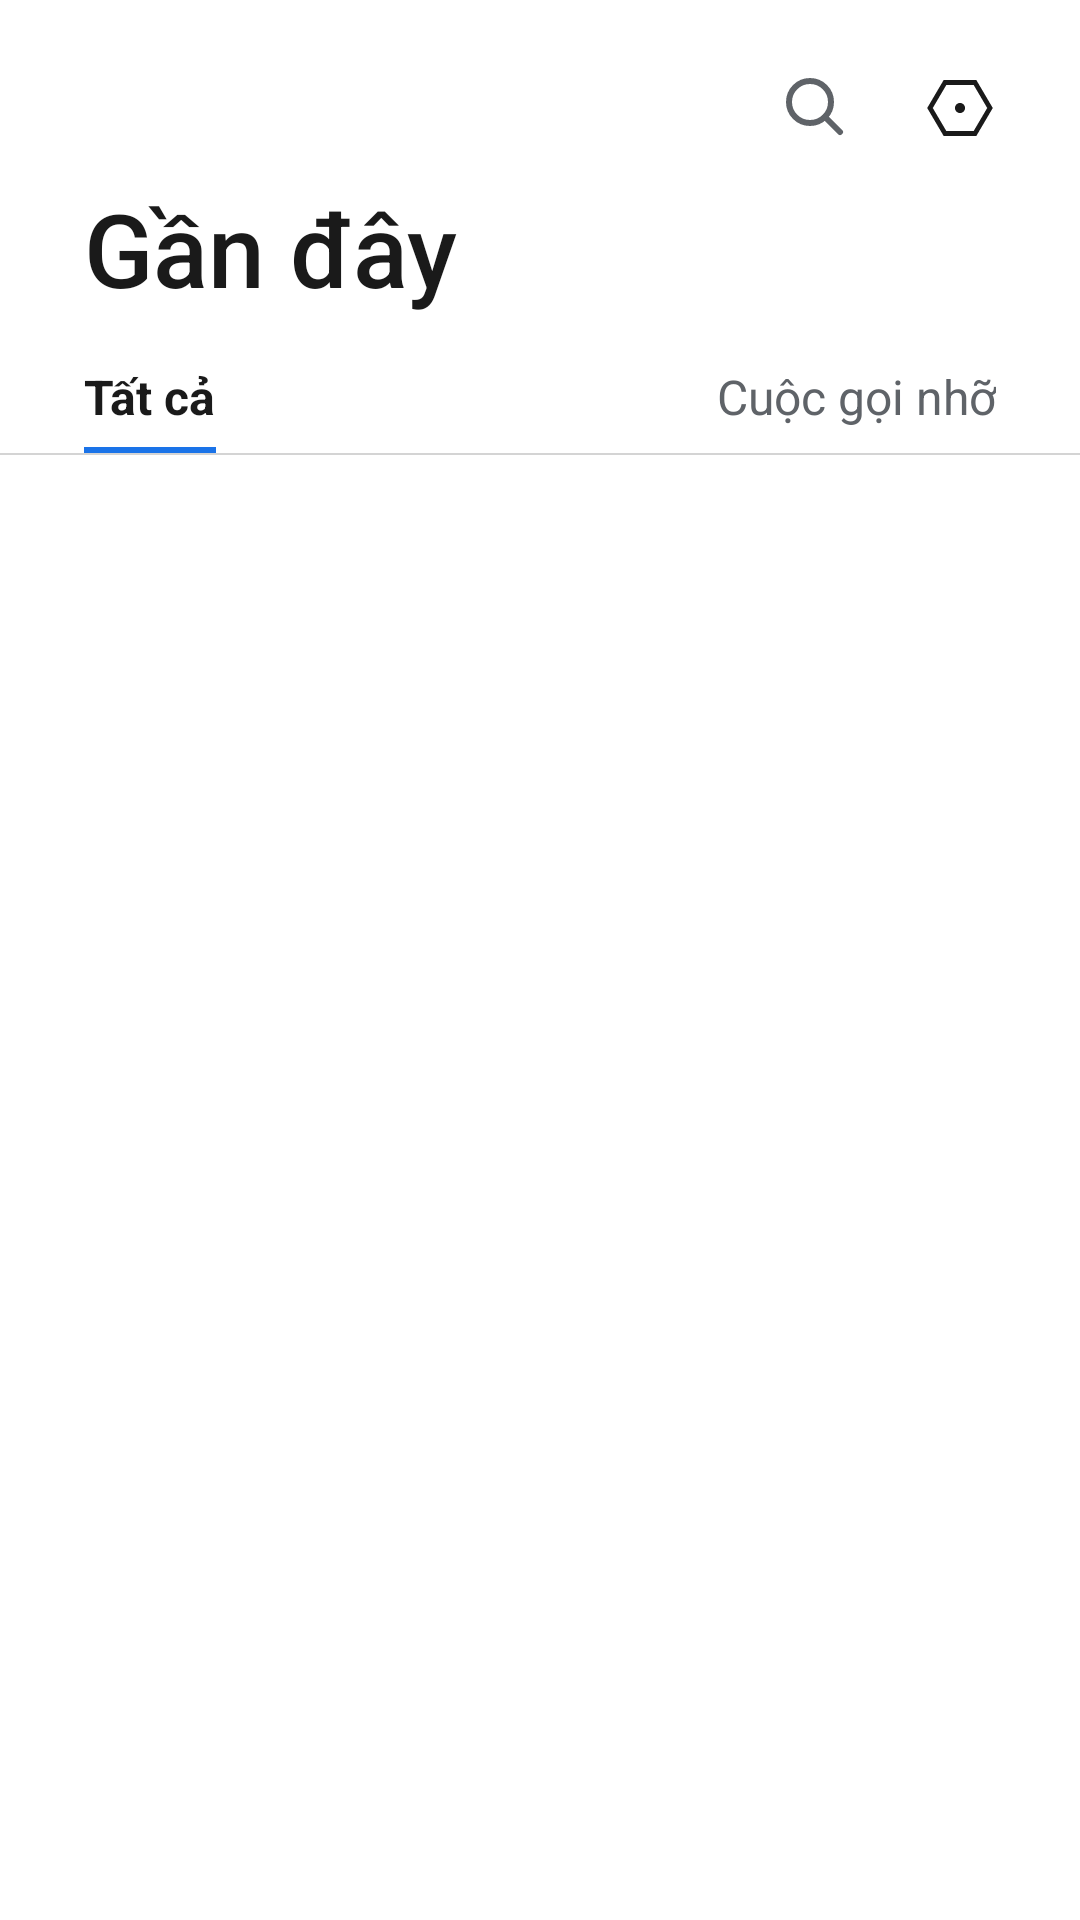

Screen size 1080px×1920px. Icon name, then its center in pixels as (x=x, y=y):
Cài đặt: (x=960, y=108)
Tìm kiếm: (x=814, y=106)
